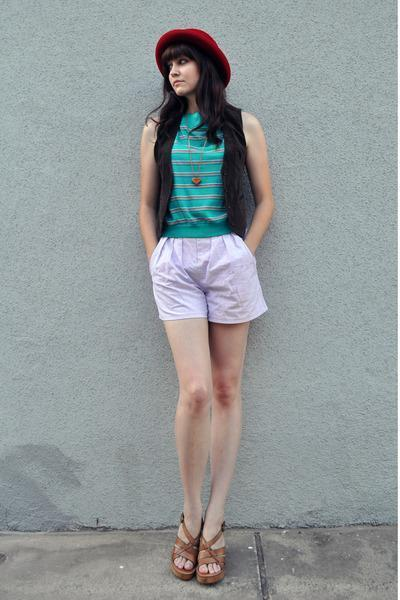hat: (180, 29, 219, 50)
jacket: (148, 132, 248, 245)
shirt: (166, 112, 235, 238)
shoe: (170, 516, 238, 587)
shorts: (149, 235, 267, 323)
